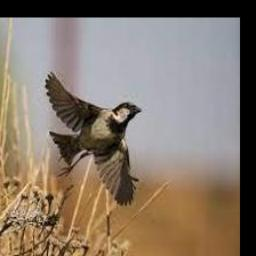Sparrow: (45, 71, 142, 206)
